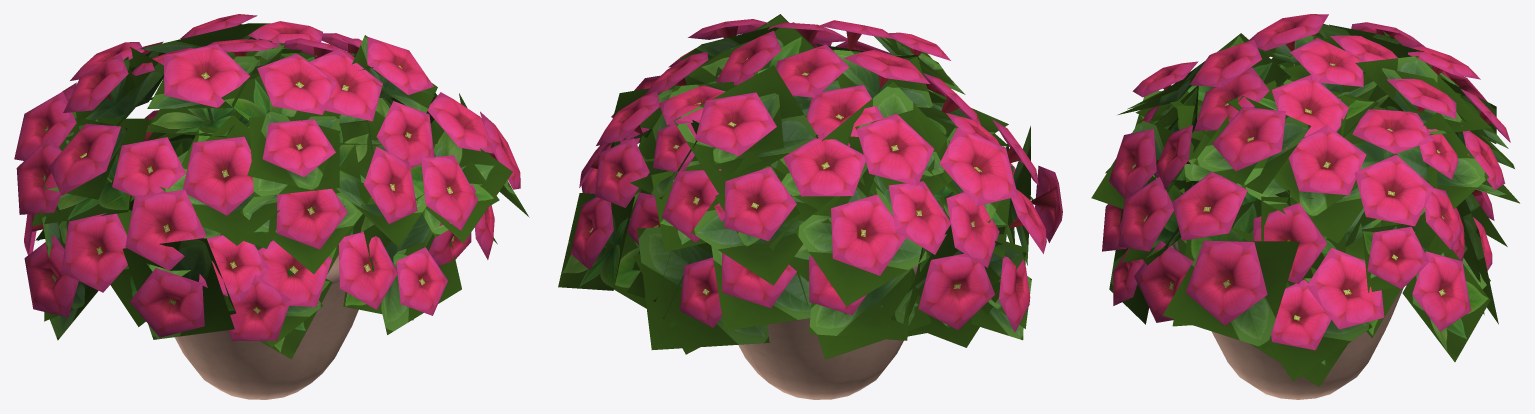
The model's file is Furniture_foliageplant_08_LOD0.fbx.
3 renders of one model, left to right at view 1: azimuth 30°, elevation 25°; view 2: azimuth 150°, elevation 25°; view 3: azimuth 270°, elevation 25°, orthographic.
Parts seen in each view (by area): view 1: F_foliageplant_08_LOD0_01, F_foliageplant_08_LOD0_02; view 2: F_foliageplant_08_LOD0_01, F_foliageplant_08_LOD0_02; view 3: F_foliageplant_08_LOD0_01, F_foliageplant_08_LOD0_02.
Boxes of the visible parts, x1=… form: F_foliageplant_08_LOD0_01: x1=14, y1=14, x2=529, y2=359; F_foliageplant_08_LOD0_02: x1=174, y1=254, x2=358, y2=399; F_foliageplant_08_LOD0_01: x1=558, y1=14, x2=1062, y2=359; F_foliageplant_08_LOD0_02: x1=738, y1=264, x2=918, y2=399; F_foliageplant_08_LOD0_01: x1=1091, y1=14, x2=1519, y2=386; F_foliageplant_08_LOD0_02: x1=1170, y1=241, x2=1403, y2=399.
Bounding box in the file's own units: 53.56 × 38.78 × 45.22.
